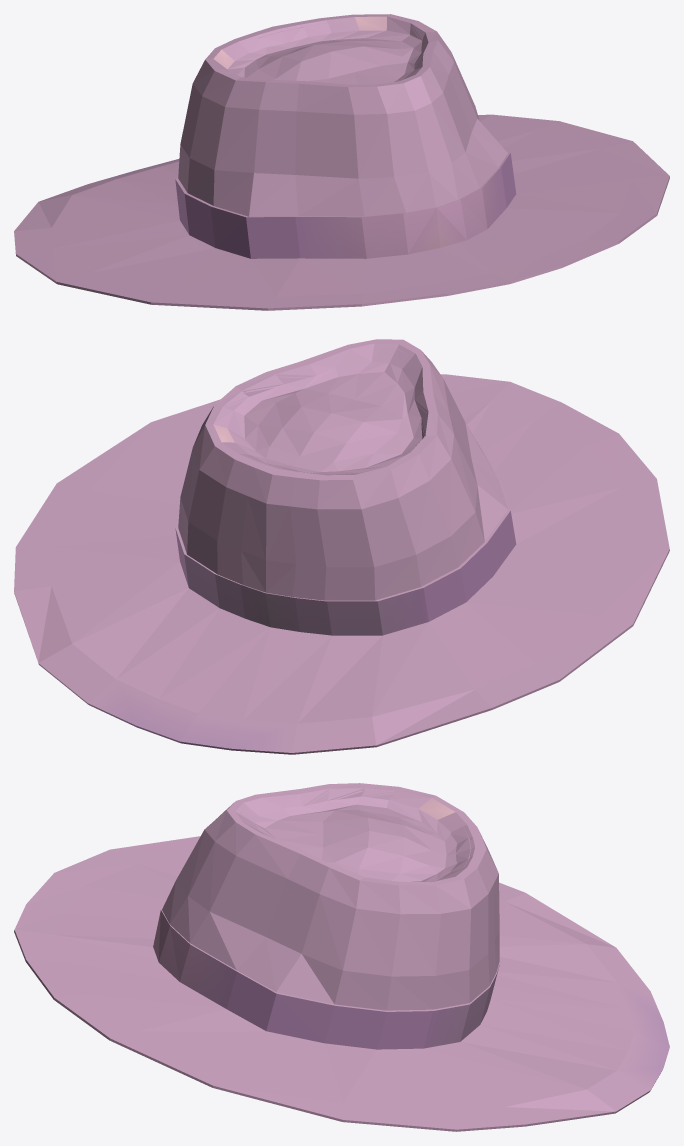
The model's file is White Fedora Or Pink.fbx.
3 renders of one model, top to bottom at view 1: azimuth 30°, elevation 25°; view 2: azimuth 150°, elevation 25°; view 3: azimuth 270°, elevation 25°, orthographic.
Parts seen in each view (by area): view 1: Cube; view 2: Cube; view 3: Cube.
Boxes of the visible parts, left/top/right/bottom form: Cube: left=14, top=14, right=669, bottom=310; Cube: left=14, top=339, right=669, bottom=754; Cube: left=14, top=783, right=669, bottom=1131.
Size of the model in its own units: 49.64 by 19.8 by 49.26.
